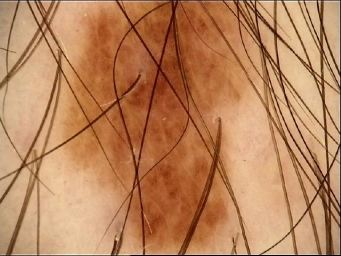melanoma: (64, 1, 245, 253)
